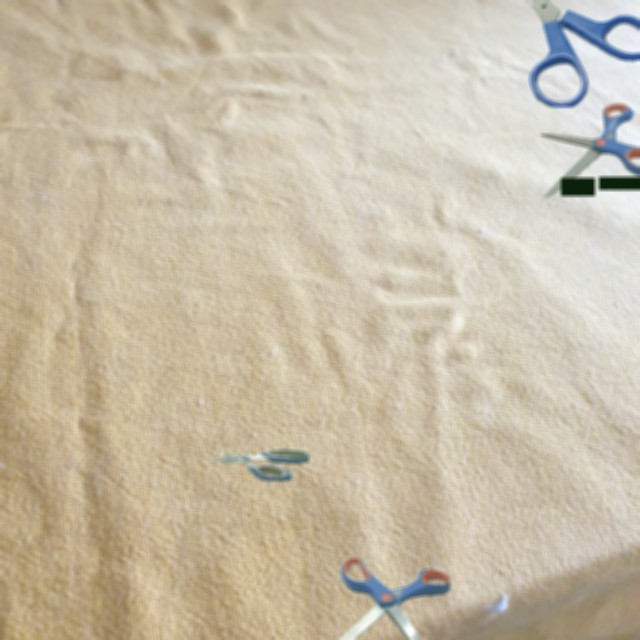scissors: (515, 0, 640, 107), (314, 558, 450, 640), (541, 103, 640, 198), (211, 449, 309, 481)
